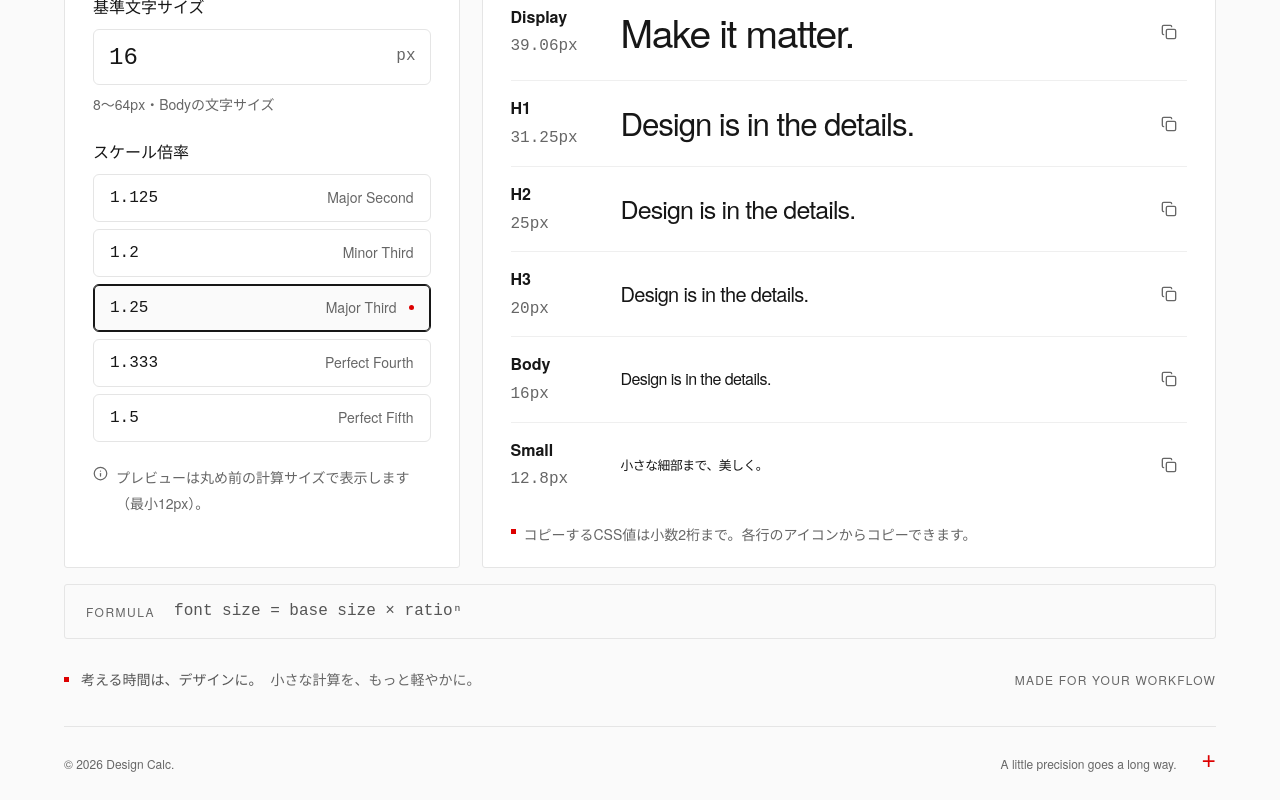
Test: calculator workflows › shows actual type sizes, individual CSS, and readability warnings
(page scrolled)
Click the button named "SmallのCSS値をコピー" at (1169, 465), box x1=1151 y1=443 x2=1187 y2=487
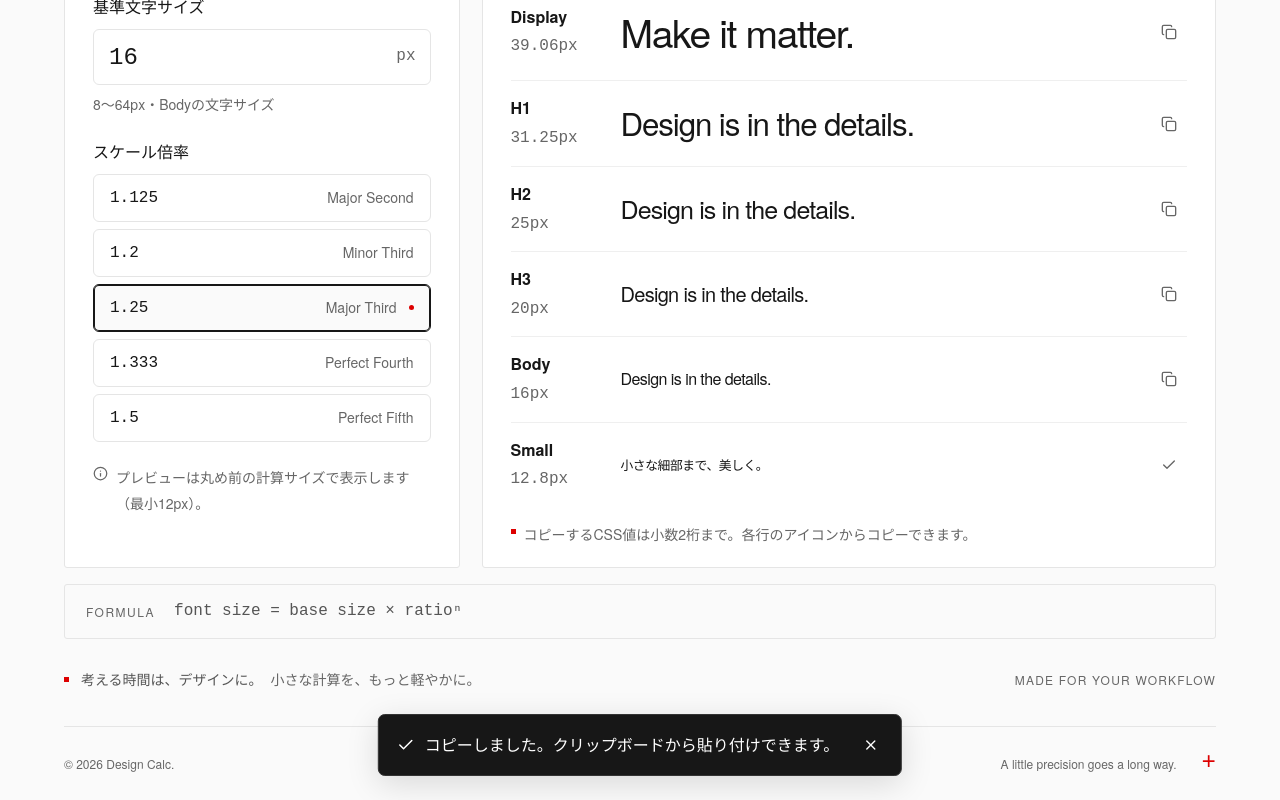
Replace the text in the field labelled "基準文字サイズ" with "8" at (262, 57), box x1=93 y1=29 x2=430 y2=85
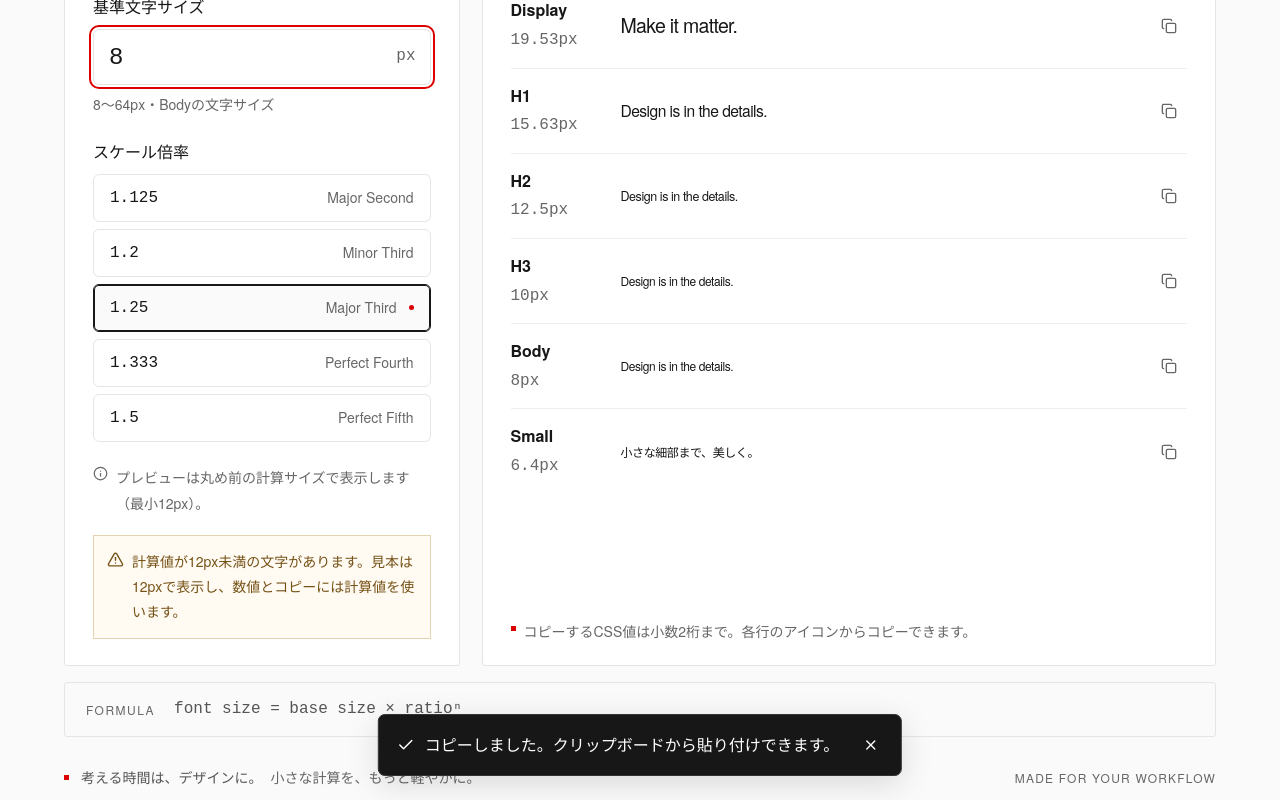
Check: the text "計算値が12px未満の文字があります。見本は12pxで表示し、数値とコピーには計算値を使います。" is shown, box x1=132 y1=549 x2=416 y2=625
